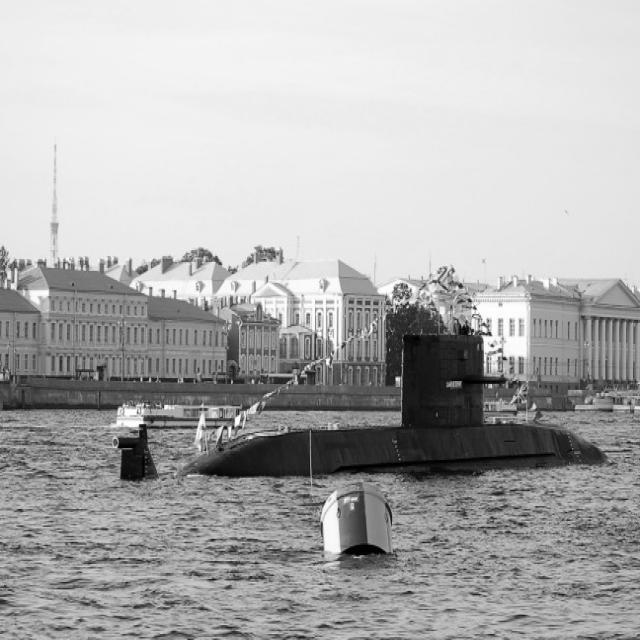submarine: (96, 330, 622, 480)
